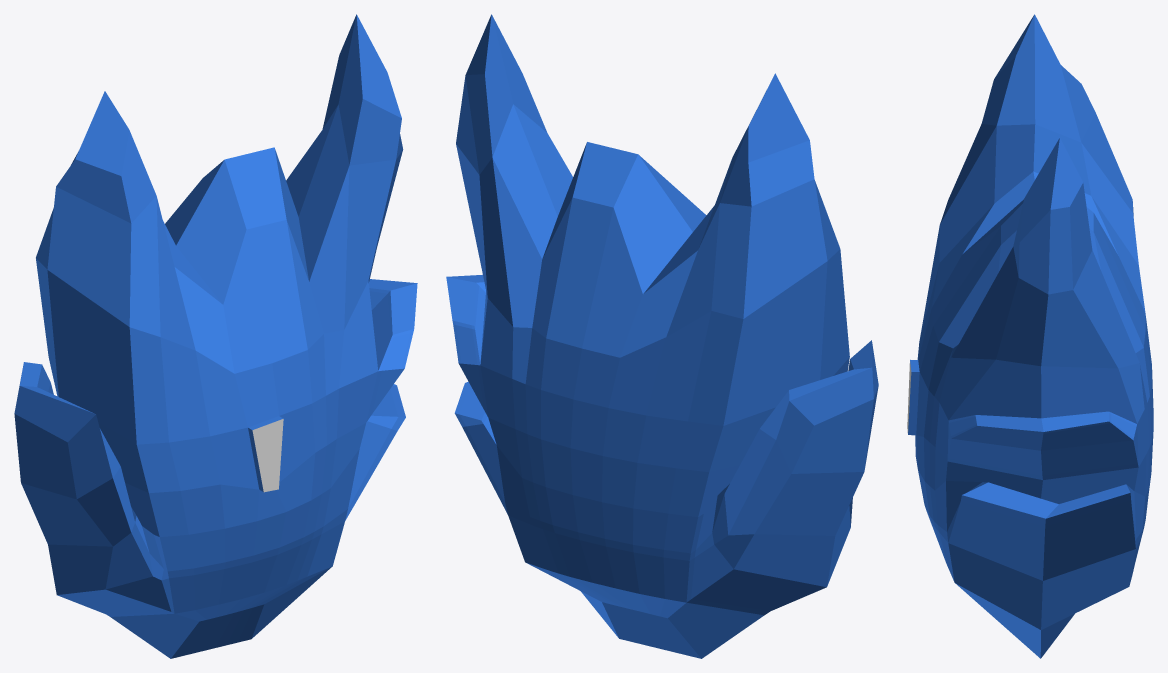
Rendered from Charakter3-1.fbx.
3 renders of one model, left to right at view 1: azimuth 30°, elevation 25°; view 2: azimuth 150°, elevation 25°; view 3: azimuth 270°, elevation 25°, orthographic. The views are drawn at different scales.
Parts seen in each view (by area): view 1: Cube; view 2: Cube; view 3: Cube.
Boxes of the visible parts, x1,y1,x2,y2 form: Cube: (14,14,417,658); Cube: (446,14,878,658); Cube: (907,14,1153,658).
Bounding box in the file's own units: 492 × 676 × 262.
